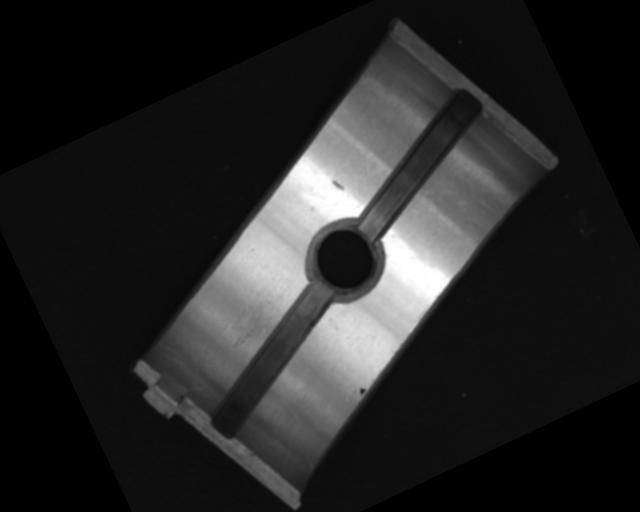blot: (355, 385, 368, 398)
bruise: (330, 175, 346, 193)
gap: (324, 83, 512, 243), (178, 277, 365, 436)
hole: (294, 207, 392, 309)
scratch: (203, 284, 294, 374)
